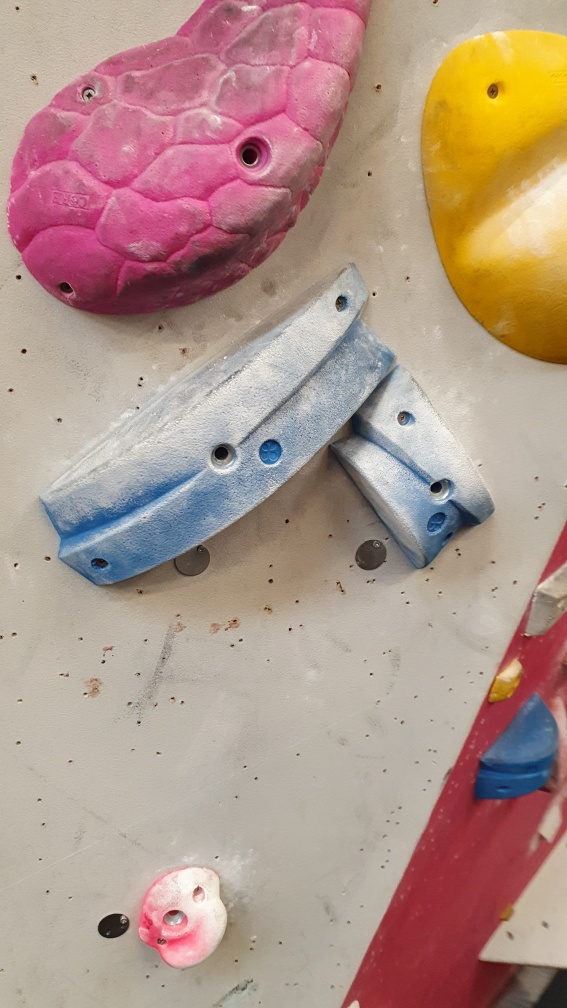Hand Start: (173, 544, 213, 580), (353, 535, 388, 574), (98, 913, 126, 937)
Jug: (136, 864, 232, 973)
Pinch: (38, 264, 398, 587), (326, 361, 493, 570), (477, 691, 557, 805)
